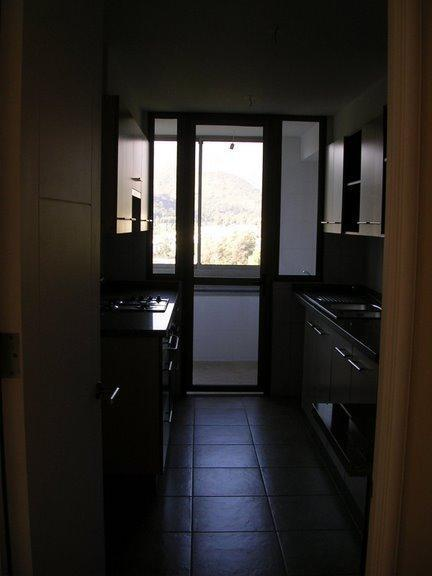Puerta: (12, 10, 118, 568)
